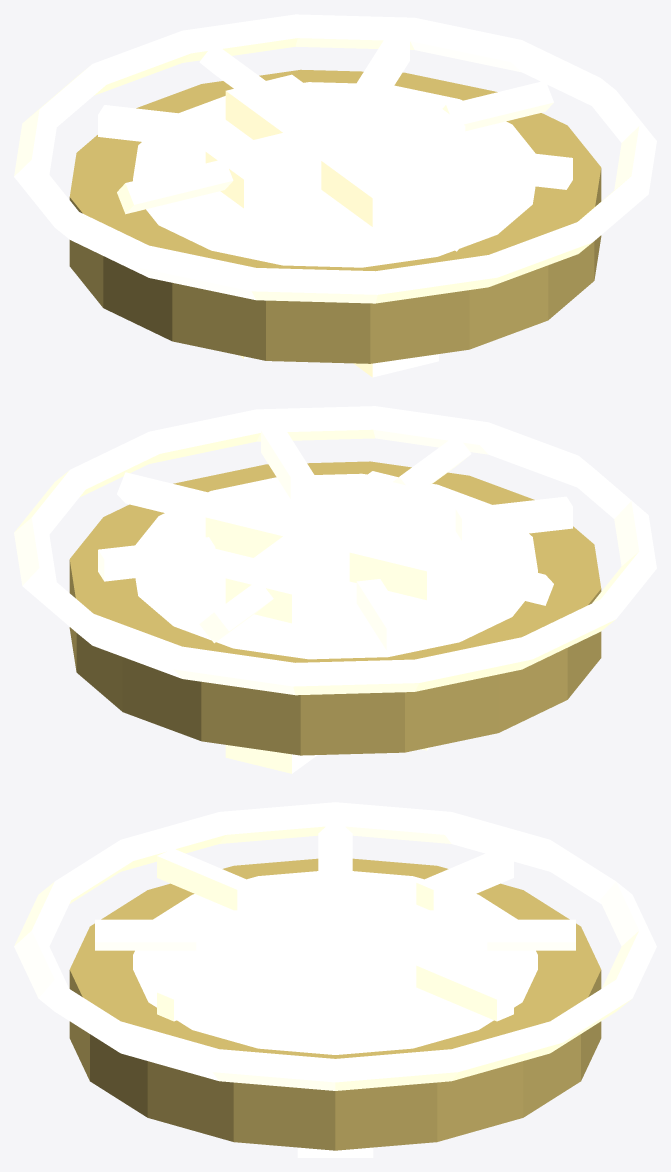
File: consecrate.glb
3 renders of one model, top to bottom at view 1: azimuth 30°, elevation 25°; view 2: azimuth 150°, elevation 25°; view 3: azimuth 270°, elevation 25°, orthographic.
Visible parts, largest first — view 1: DescendingSeal, OuterHolyRing, CentralCross, WhiteSealFace, SunRay_7, SunRay_3, SunRay_4, SunRay_0, SunRay_5, SunRay_1, SunRay_6, SunRay_2; view 2: DescendingSeal, OuterHolyRing, CentralCross, WhiteSealFace, SunRay_1, SunRay_5, SunRay_4, SunRay_0, SunRay_7, SunRay_3, SunRay_2, SunRay_6; view 3: DescendingSeal, OuterHolyRing, WhiteSealFace, CentralCross, SunRay_6, SunRay_1, SunRay_7, SunRay_3, SunRay_5, SunRay_2, SunRay_0, SunRay_4.
Boxes of the visible parts, <box> form: DescendingSeal: <box>69,69,601,363</box>; OuterHolyRing: <box>14,14,656,303</box>; CentralCross: <box>205,74,465,377</box>; WhiteSealFace: <box>133,82,535,267</box>; SunRay_7: <box>455,145,572,189</box>; SunRay_3: <box>98,105,215,149</box>; SunRay_4: <box>117,159,233,214</box>; SunRay_0: <box>442,80,553,131</box>; SunRay_5: <box>261,187,314,258</box>; SunRay_1: <box>356,36,409,107</box>; SunRay_6: <box>391,178,471,251</box>; SunRay_2: <box>199,43,277,93</box>; DescendingSeal: <box>69,461,601,755</box>; OuterHolyRing: <box>14,406,656,695</box>; CentralCross: <box>205,471,465,773</box>; WhiteSealFace: <box>135,473,537,659</box>; SunRay_1: <box>98,537,215,581</box>; SunRay_5: <box>455,496,572,540</box>; SunRay_4: <box>437,550,553,605</box>; SunRay_0: <box>117,472,228,522</box>; SunRay_7: <box>261,427,314,499</box>; SunRay_3: <box>356,579,409,650</box>; SunRay_2: <box>199,570,277,643</box>; SunRay_6: <box>393,435,471,485</box>; DescendingSeal: <box>69,858,601,1150</box>; OuterHolyRing: <box>14,802,656,1090</box>; WhiteSealFace: <box>133,871,537,1054</box>; CentralCross: <box>196,873,487,1157</box>; SunRay_6: <box>95,919,208,950</box>; SunRay_1: <box>416,958,513,1021</box>; SunRay_7: <box>157,958,254,1021</box>; SunRay_3: <box>416,849,513,910</box>; SunRay_5: <box>157,849,254,910</box>; SunRay_2: <box>462,919,575,950</box>; SunRay_0: <box>318,973,352,1051</box>; SunRay_4: <box>318,818,352,872</box>.
Bounding box in the file's own units: 1.02 × 0.322 × 1.02.
